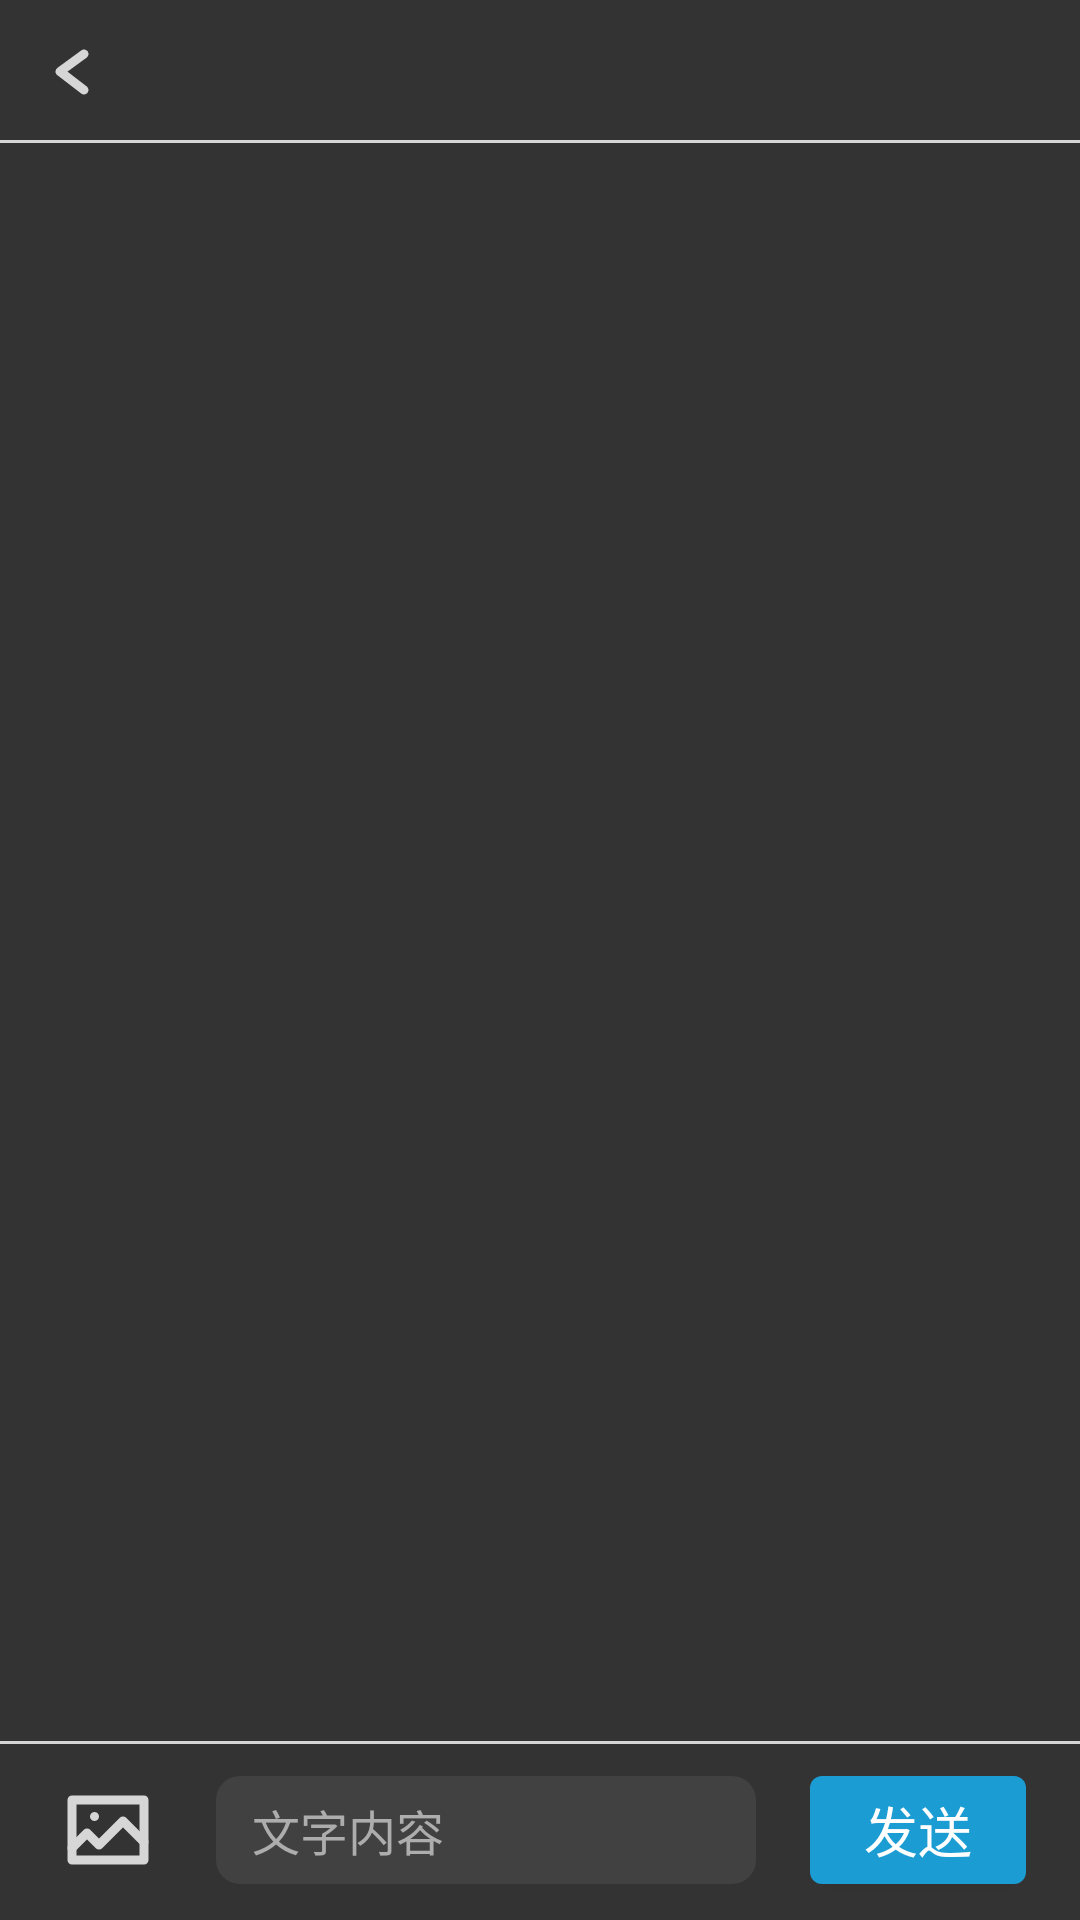

Icon click points for this 1080x1920 phone screenshot, format (x,y):
back: (72,72)
